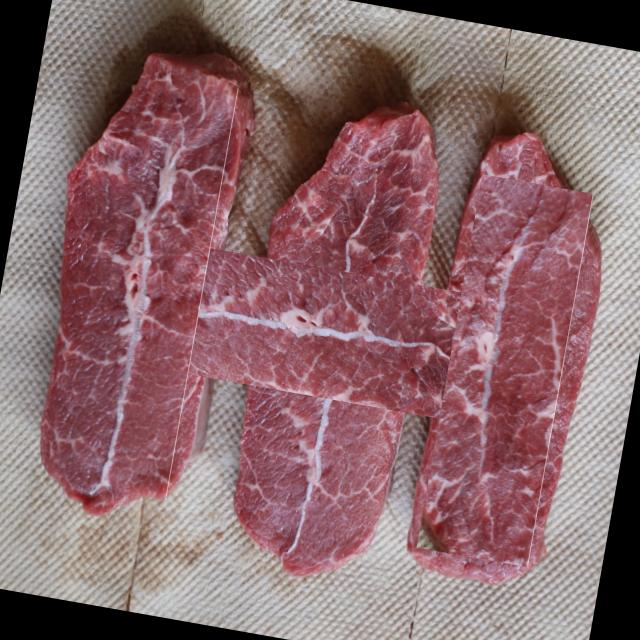beef: (182, 179, 495, 492), (46, 67, 238, 500), (416, 174, 594, 568)
